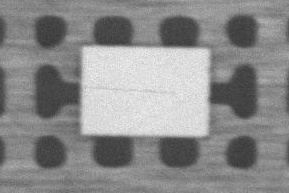DIE_CRACK: (127, 58, 262, 62)
